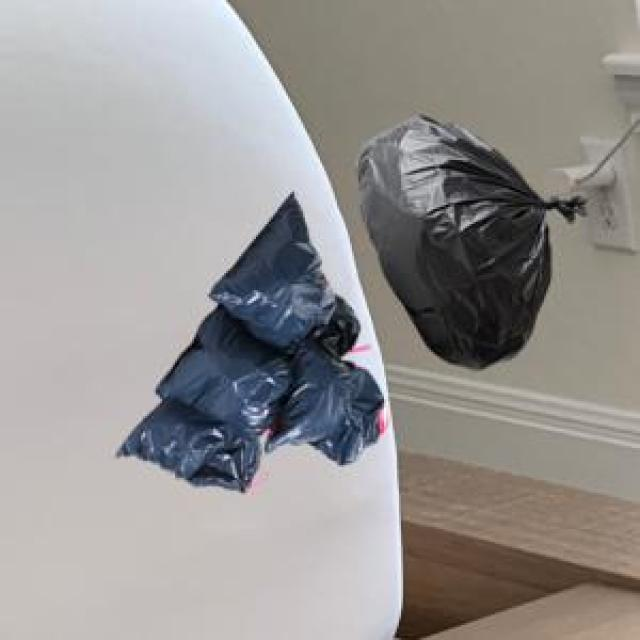waste: (118, 194, 382, 491), (361, 116, 584, 367)
